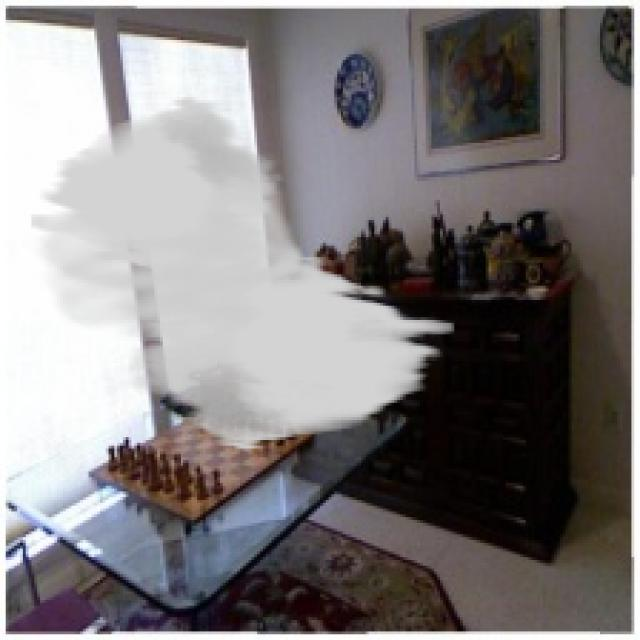smoke: (29, 94, 454, 452)
